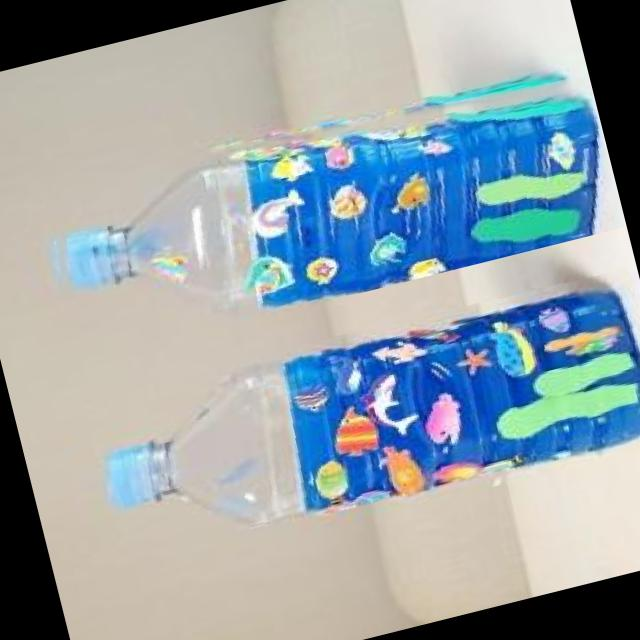plastic bottle: (28, 46, 624, 363), (57, 258, 640, 582)
